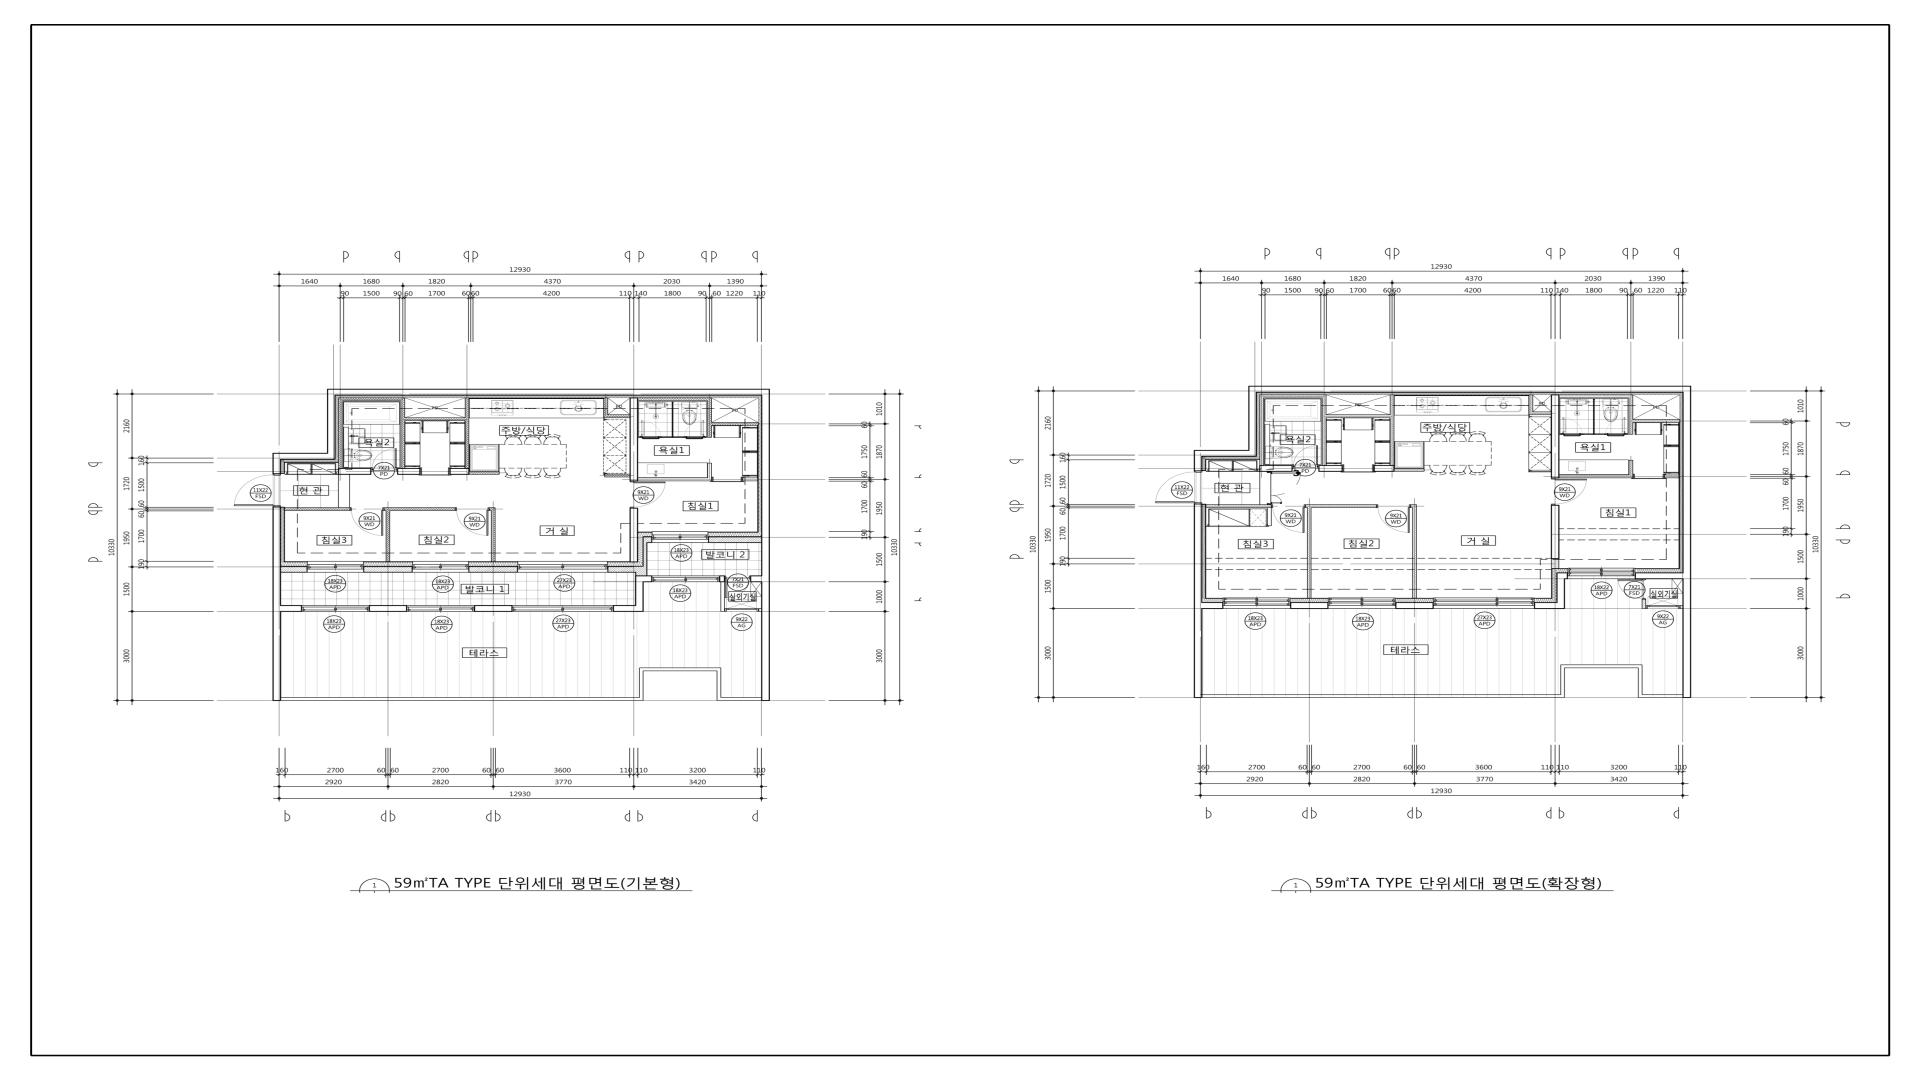door: (1155, 471, 1203, 504), (233, 475, 281, 506), (1267, 472, 1302, 505), (1377, 504, 1411, 533), (629, 481, 666, 508), (1271, 505, 1305, 533), (455, 508, 489, 535), (1551, 479, 1586, 505), (351, 508, 384, 535), (371, 448, 397, 472), (725, 575, 750, 599), (1292, 446, 1319, 468), (1618, 579, 1646, 600), (1559, 418, 1581, 436), (1607, 417, 1627, 436), (638, 421, 659, 439), (686, 421, 707, 439), (421, 467, 450, 476), (1342, 464, 1373, 472), (1633, 473, 1664, 479), (712, 477, 742, 481)
wall: (1257, 385, 1691, 393), (335, 389, 770, 396), (761, 396, 770, 702), (1683, 393, 1691, 698), (1193, 504, 1203, 698), (273, 506, 281, 702), (629, 397, 638, 481), (1551, 394, 1559, 479), (1411, 504, 1416, 599), (327, 389, 335, 452), (1249, 386, 1257, 450), (1551, 505, 1560, 559), (629, 508, 638, 562), (281, 452, 335, 460), (1559, 394, 1633, 400), (638, 397, 712, 402), (464, 398, 469, 468), (608, 566, 647, 575), (1556, 572, 1568, 603), (1307, 508, 1311, 599), (489, 508, 496, 562), (1203, 450, 1257, 456), (338, 401, 343, 468), (708, 537, 761, 543), (468, 566, 518, 572), (364, 566, 413, 572), (1635, 572, 1683, 579), (642, 537, 653, 566), (1305, 504, 1377, 508), (1390, 394, 1394, 465), (638, 477, 707, 481), (385, 510, 390, 562), (1259, 394, 1327, 398), (1259, 398, 1263, 465), (1323, 398, 1327, 465), (401, 401, 405, 468), (475, 605, 513, 612), (369, 605, 407, 612), (1290, 603, 1328, 609), (1395, 603, 1433, 609), (1327, 414, 1390, 418), (338, 468, 372, 475), (1259, 465, 1292, 472), (1534, 603, 1565, 609), (613, 605, 644, 612), (1559, 475, 1634, 477), (1193, 450, 1203, 471), (1633, 419, 1680, 423), (384, 508, 455, 510), (707, 402, 712, 438), (636, 582, 644, 605), (712, 422, 758, 426), (1627, 400, 1633, 434), (284, 508, 351, 510), (273, 452, 281, 475), (1205, 505, 1271, 508), (339, 398, 405, 401), (281, 566, 307, 572), (405, 418, 465, 421), (720, 582, 725, 612), (1319, 465, 1342, 472), (397, 468, 421, 475), (1373, 465, 1394, 472), (281, 605, 302, 612), (1203, 603, 1224, 609), (450, 468, 469, 475), (1394, 468, 1424, 472), (469, 471, 500, 475), (636, 575, 653, 582), (1528, 394, 1534, 415), (604, 473, 630, 477), (707, 463, 712, 481), (1593, 400, 1596, 434), (604, 397, 608, 418), (608, 414, 629, 418), (1629, 460, 1634, 475), (1267, 508, 1271, 526), (1551, 559, 1559, 568), (750, 575, 761, 582), (1534, 411, 1551, 415), (1664, 475, 1680, 479), (742, 477, 758, 481), (673, 402, 674, 436), (719, 575, 725, 582), (1642, 600, 1646, 609), (1581, 434, 1607, 435), (659, 436, 686, 438), (1680, 605, 1683, 609), (758, 608, 761, 612)
window: (1203, 665, 1683, 698), (281, 667, 761, 700), (1433, 597, 1534, 609), (518, 560, 608, 572), (1568, 567, 1635, 579), (1328, 597, 1395, 609), (1224, 597, 1290, 609), (651, 531, 708, 543), (513, 605, 613, 612), (413, 560, 468, 572), (307, 562, 364, 572), (302, 605, 369, 612), (407, 605, 475, 612), (653, 575, 719, 582), (1646, 605, 1680, 609), (725, 608, 758, 612)
